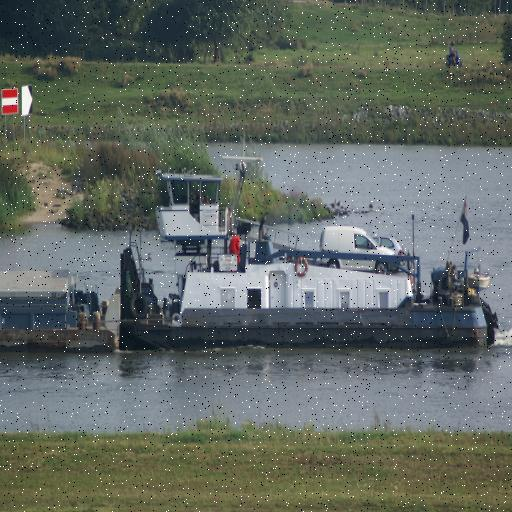tugboat: (108, 150, 507, 359)
